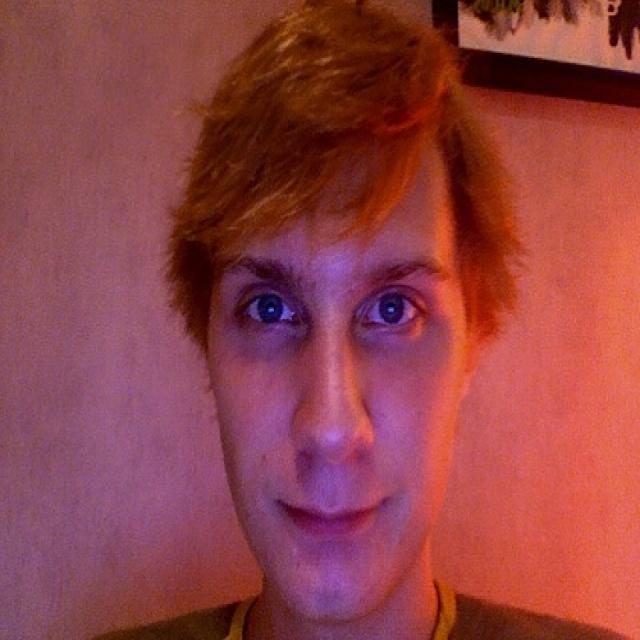opened_eye: (354, 282, 432, 340), (230, 279, 306, 332)
